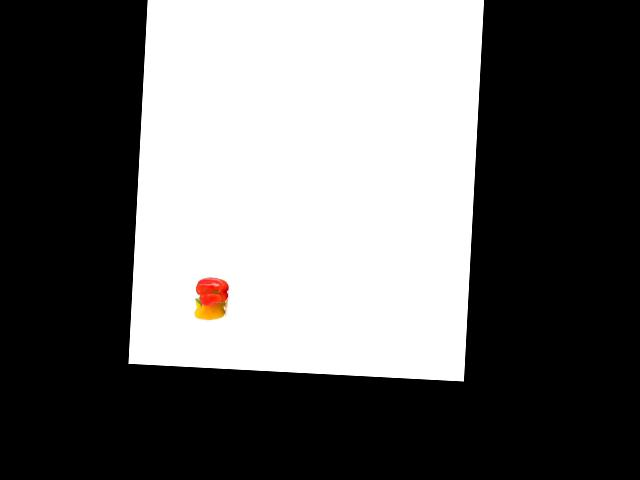bell_pepper: (195, 294, 228, 321)
